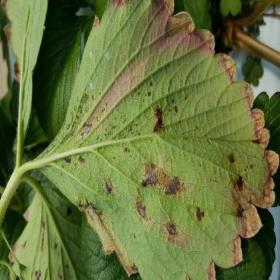Angular Leafspot: (35, 0, 279, 279), (8, 193, 76, 279)
